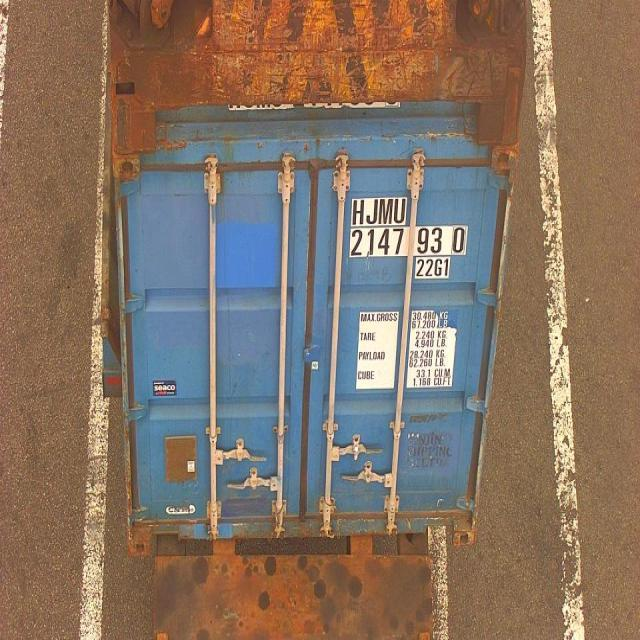ISO: (414, 260, 452, 280)
container_number: (352, 200, 472, 253)
